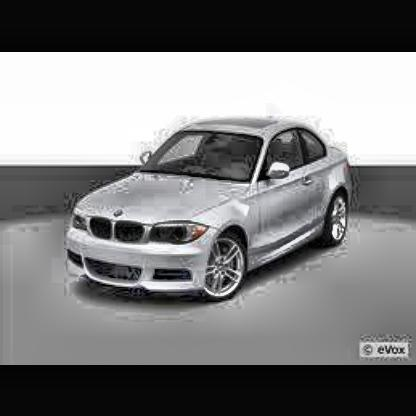BMW 1 Series Coupe 2012: (67, 114, 359, 308)
